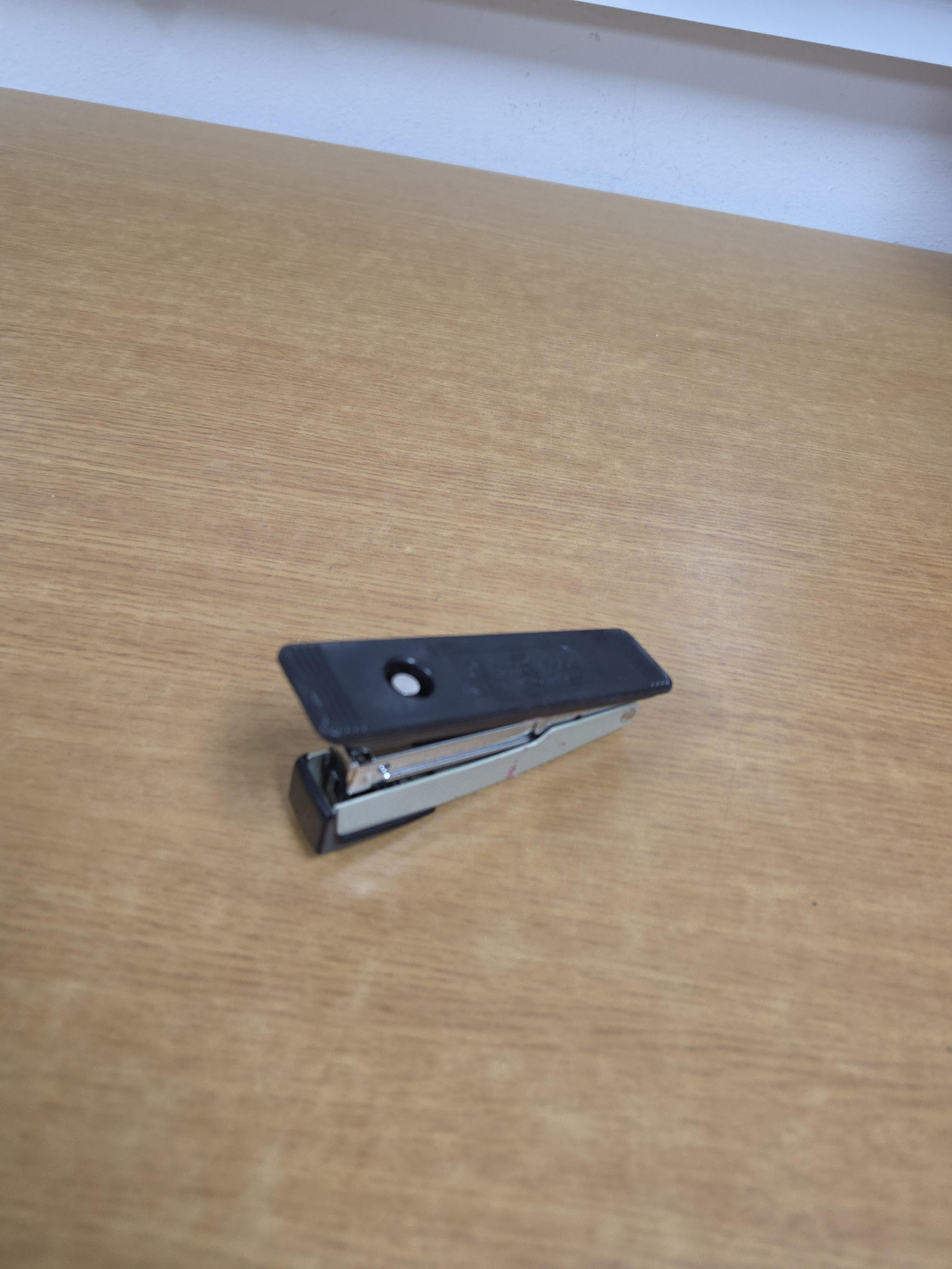stapler: (278, 628, 672, 855)
